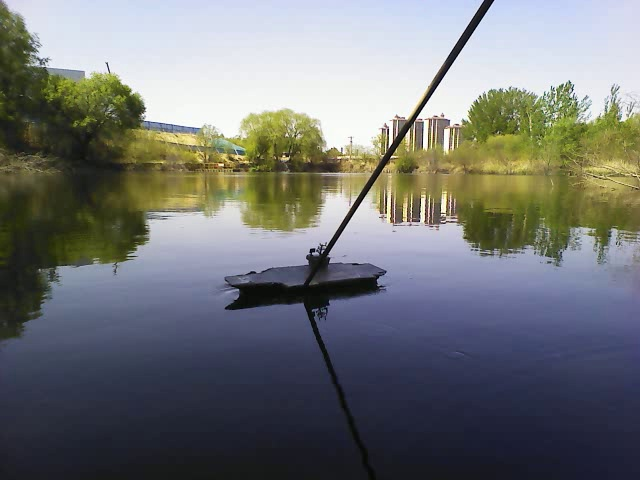aircraft_carrier: (224, 243, 390, 297)
